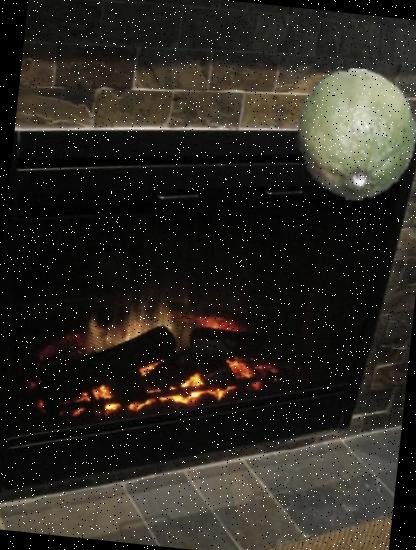Limes: (282, 62, 416, 207)
